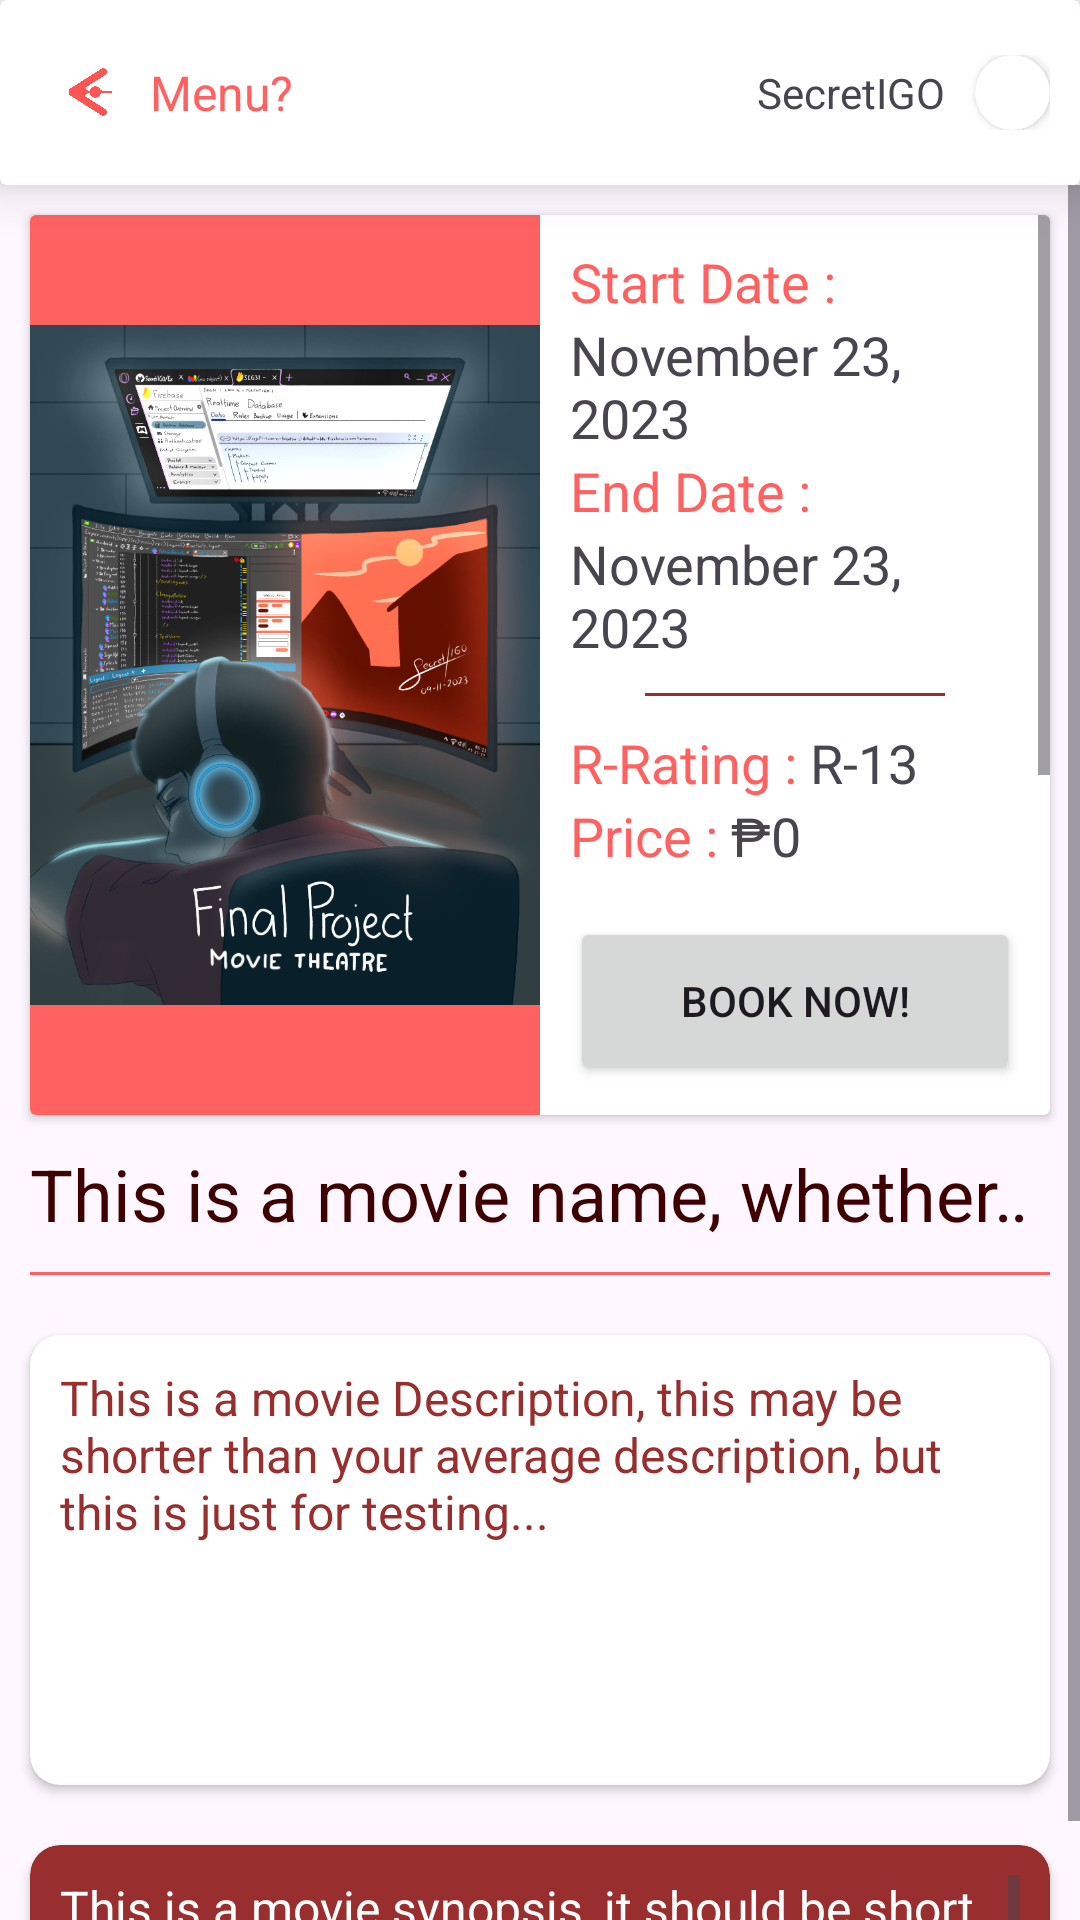

Icon click points for this 1080 x 1920 phone screenshot, format (x=x, y=y):
back: (x=90, y=92)
